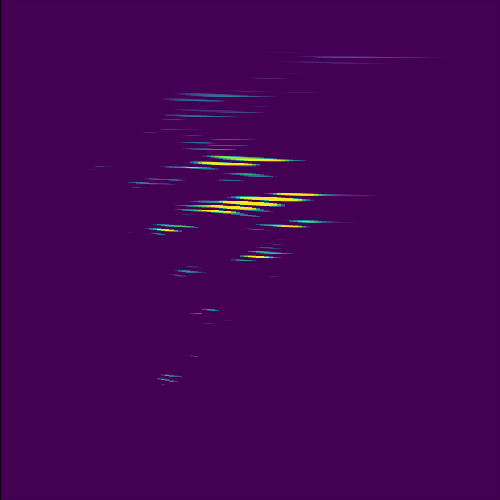semblance: (175, 185, 336, 216), (165, 153, 301, 175)
